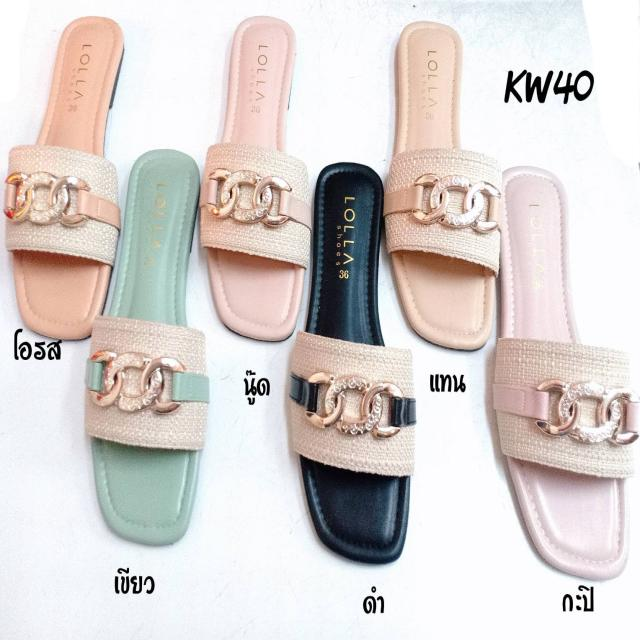black: (294, 164, 416, 566)
green: (86, 146, 204, 542)
kapi: (486, 166, 628, 585)
nood: (204, 11, 306, 339)
orot: (16, 20, 119, 334)
tan: (388, 22, 502, 356)
